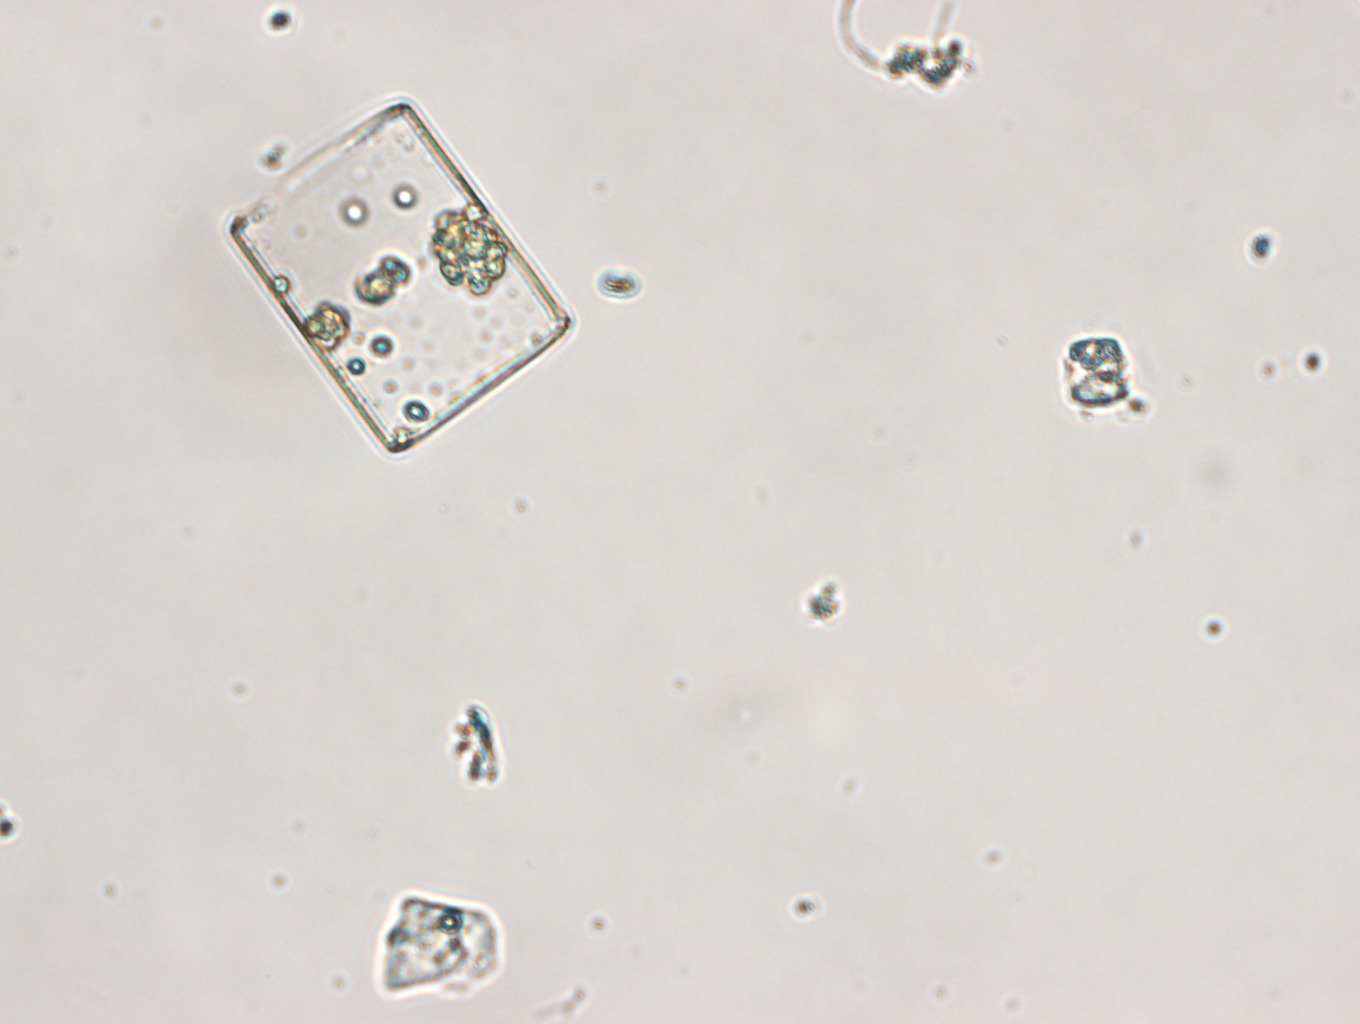guinardia flaccida: (227, 102, 572, 452)
